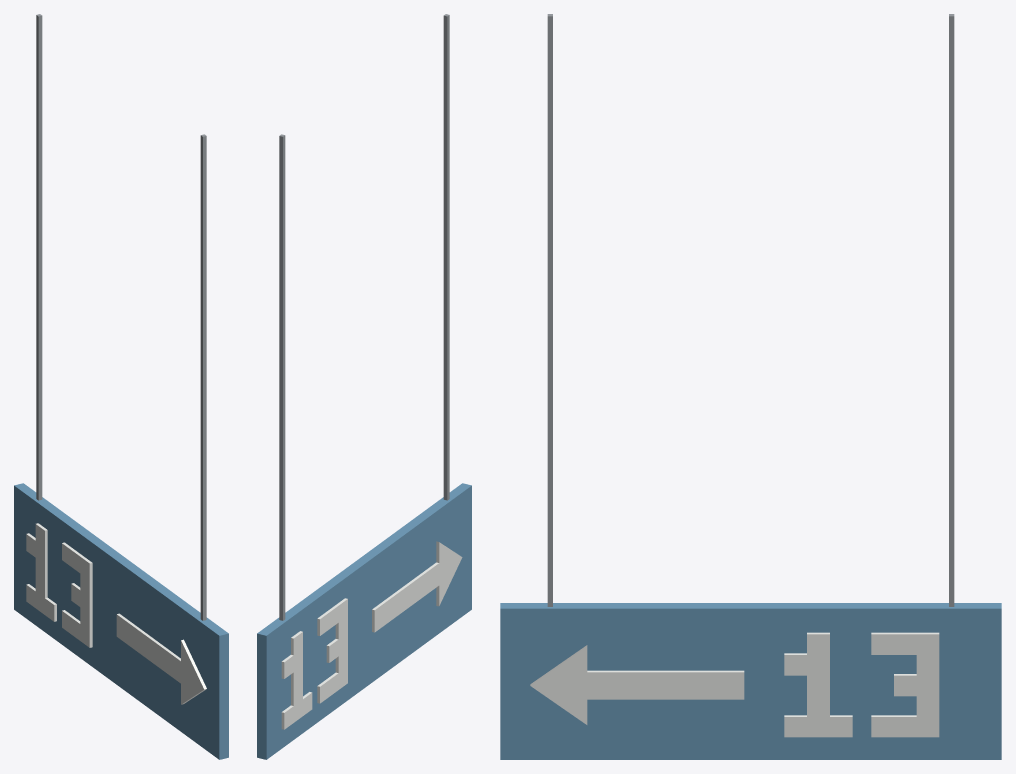
Rendered from placa_13.fbx.
3 renders of one model, left to right at view 1: azimuth 30°, elevation 25°; view 2: azimuth 150°, elevation 25°; view 3: azimuth 270°, elevation 25°, orthographic. The views are drawn at different scales.
Visible parts, largest first — view 1: placa_13; view 2: placa_13; view 3: placa_13.
Boxes of the visible parts, x1,y1,x2,y2 form: placa_13: (14,14,228,759); placa_13: (257,14,471,759); placa_13: (500,14,1001,759).
Bounding box in the file's own units: 6.4 × 245 × 150.
